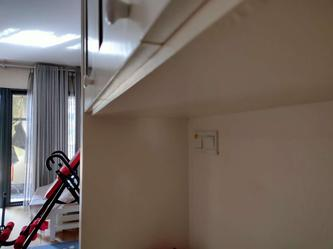switch: (202, 135, 218, 151)
